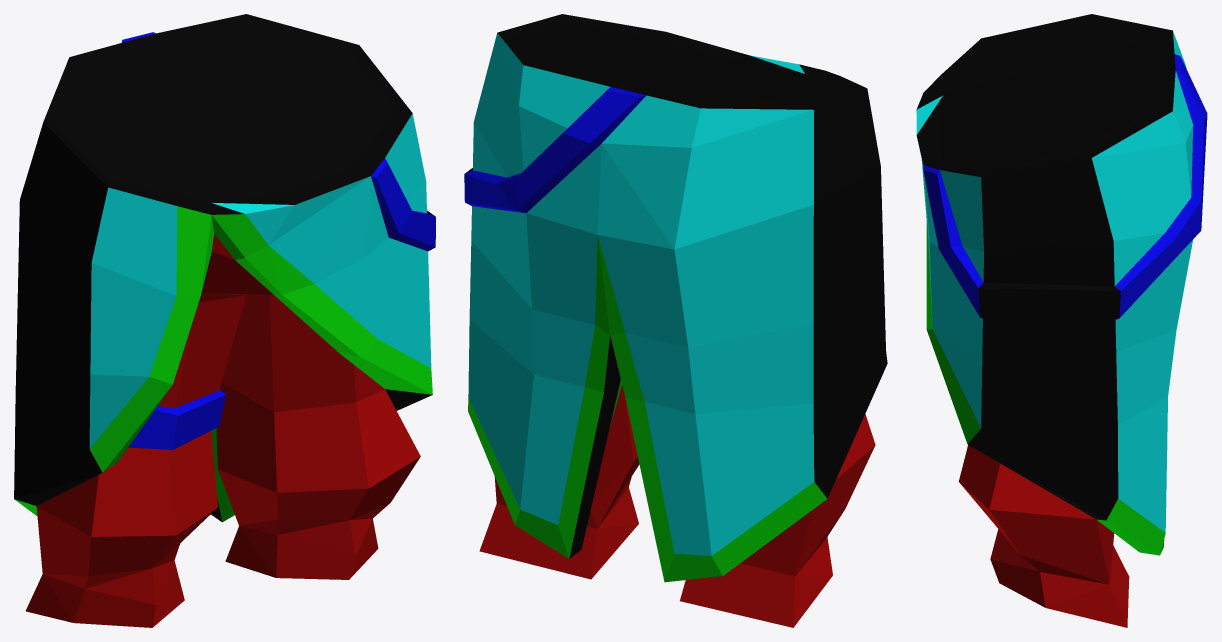
Rendered from Chr_Hips_Male_Static_04.fbx.
3 renders of one model, left to right at view 1: azimuth 30°, elevation 25°; view 2: azimuth 150°, elevation 25°; view 3: azimuth 270°, elevation 25°, orthographic. The views are drawn at different scales.
Parts seen in each view (by area): view 1: Chr_Hips_Male_04; view 2: Chr_Hips_Male_04; view 3: Chr_Hips_Male_04.
Part boxes in pixels (x1=…): Chr_Hips_Male_04: x1=14, y1=14, x2=435, y2=627; Chr_Hips_Male_04: x1=464, y1=14, x2=887, y2=627; Chr_Hips_Male_04: x1=916, y1=14, x2=1207, y2=627.
Bounding box in the file's own units: 39.99 × 55.45 × 30.06.
